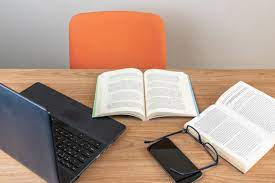Open Book: (190, 80, 275, 173), (93, 67, 200, 120)
